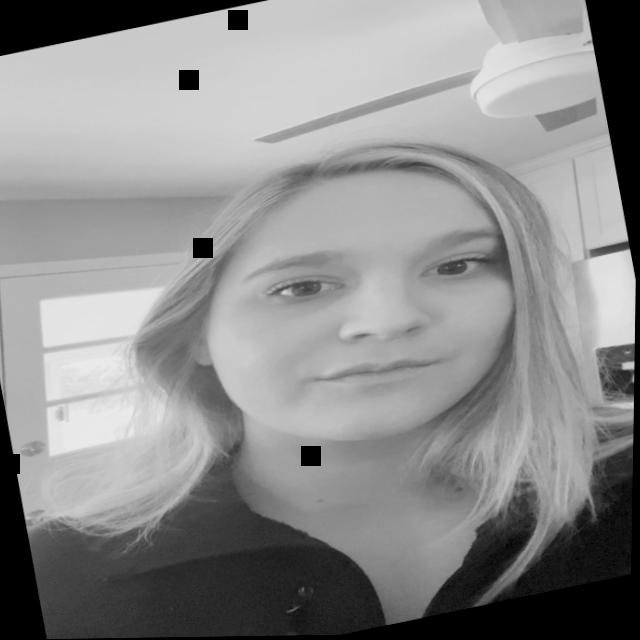NO-Mask: (157, 133, 561, 478)
